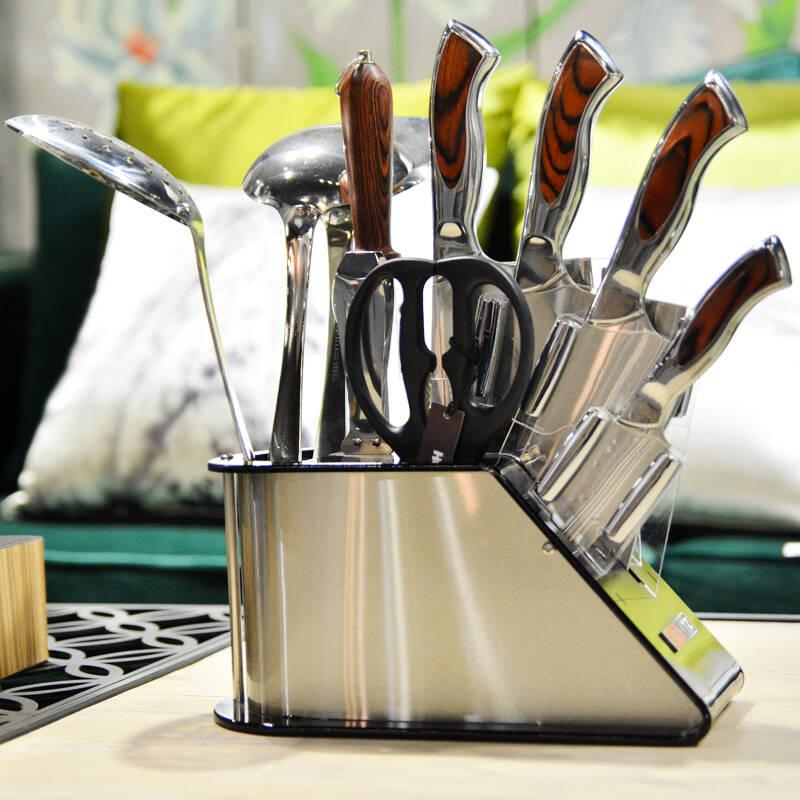knife: (528, 45, 798, 615)
